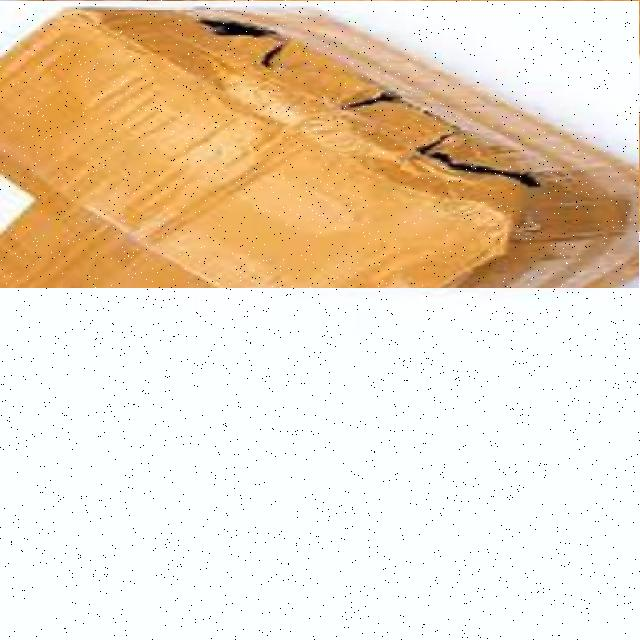defect: (0, 1, 639, 288)
